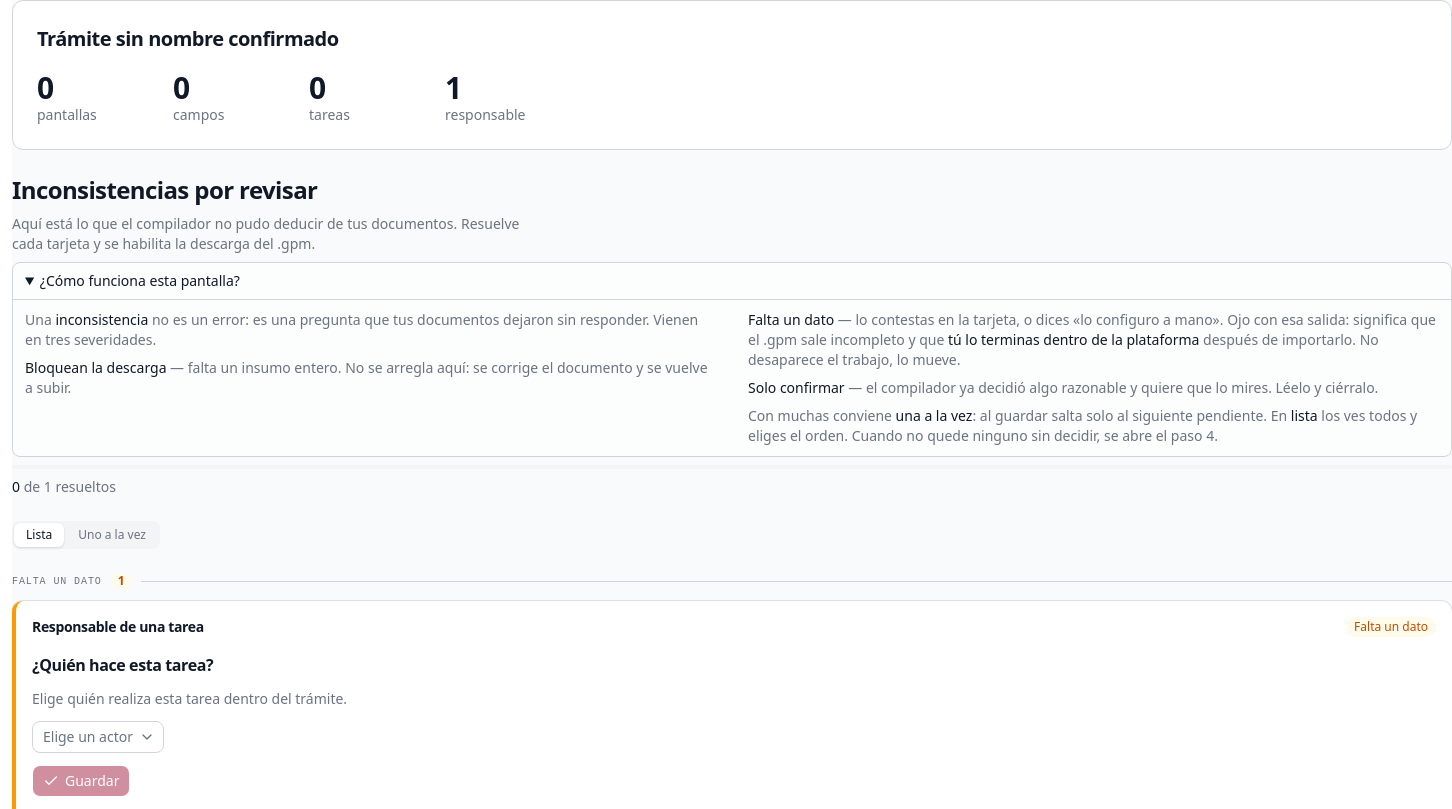
Test case: MMD-03 muestra un ControlActor con los actores del manifiesto
Click the dropdown.
click(98, 737)  # box [32, 721, 164, 753]
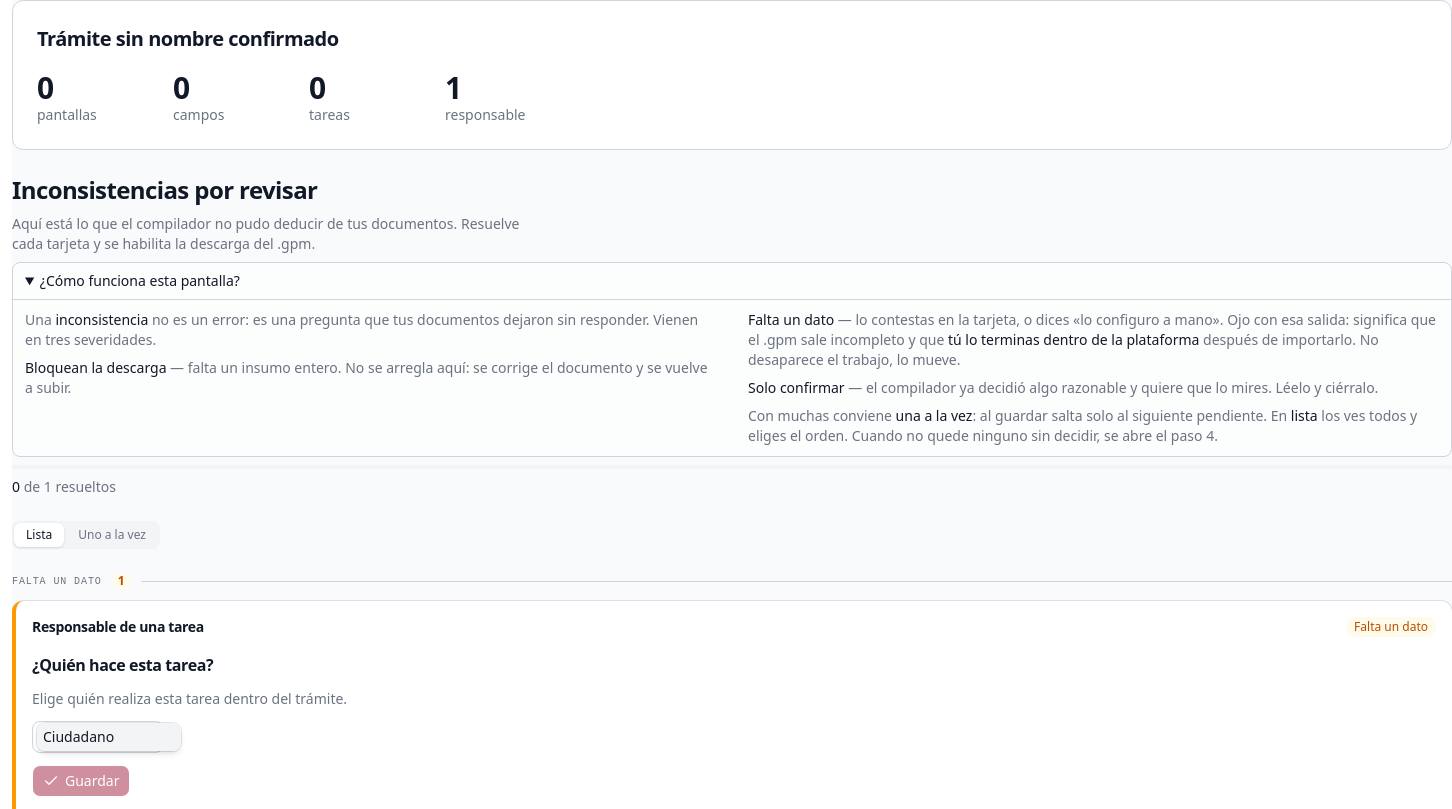
Expected: the option "Ciudadano" is shown, [37, 723, 181, 751]
